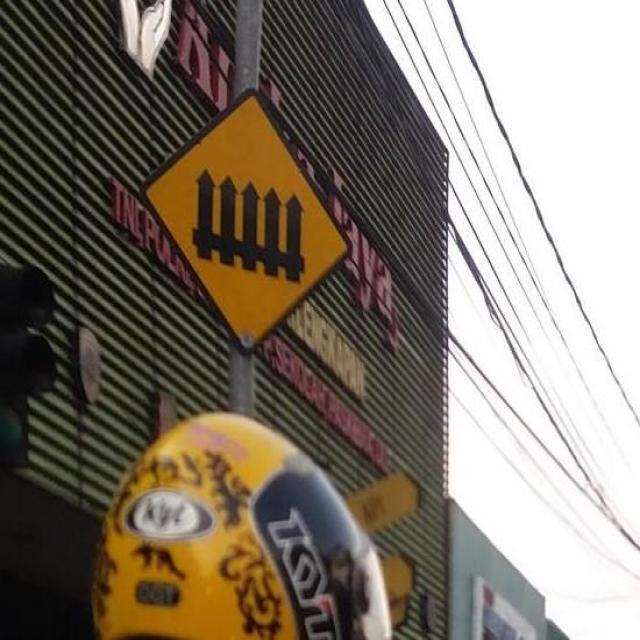traffic sign: (160, 99, 350, 348)
